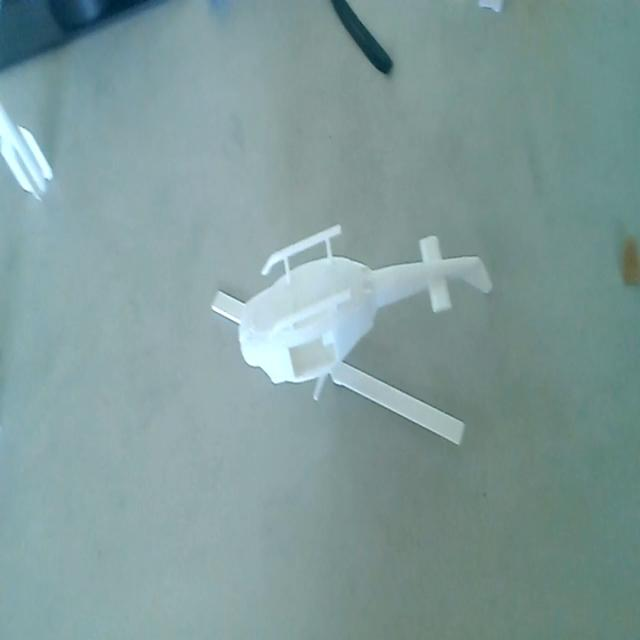Helicopter: (208, 221, 496, 456)
Rocket: (0, 98, 56, 207)
